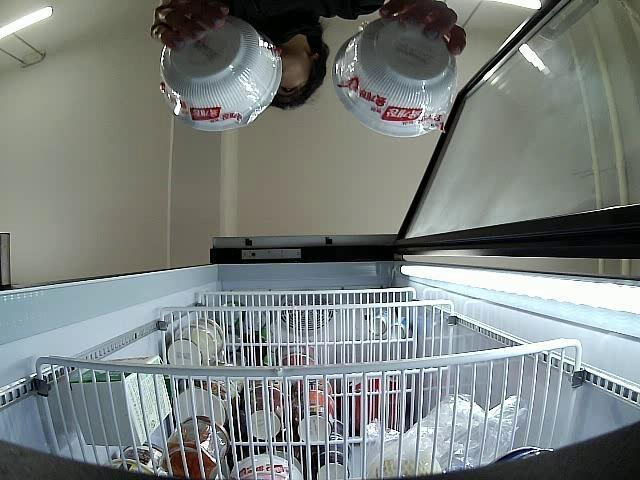09_yukGaeJang: (333, 19, 458, 138), (158, 19, 283, 130)
